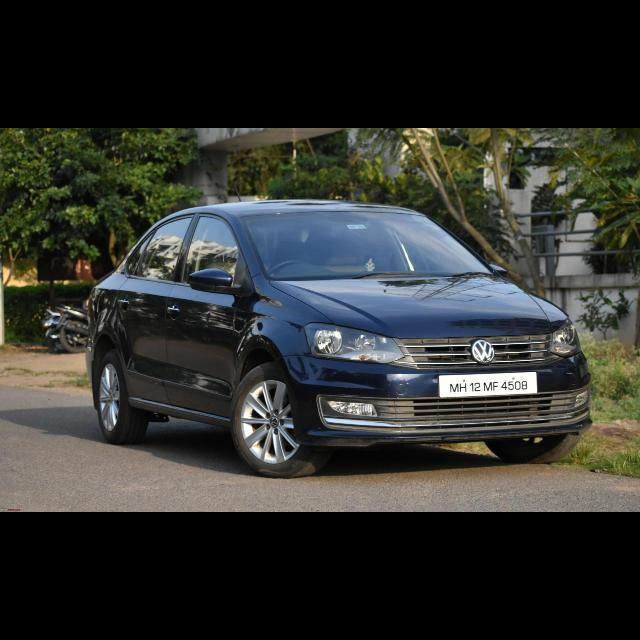vehicles: (82, 204, 594, 476)
